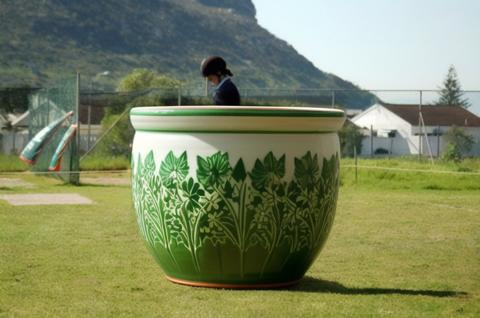person: (195, 57, 258, 212)
pottedplant: (131, 96, 346, 290)
